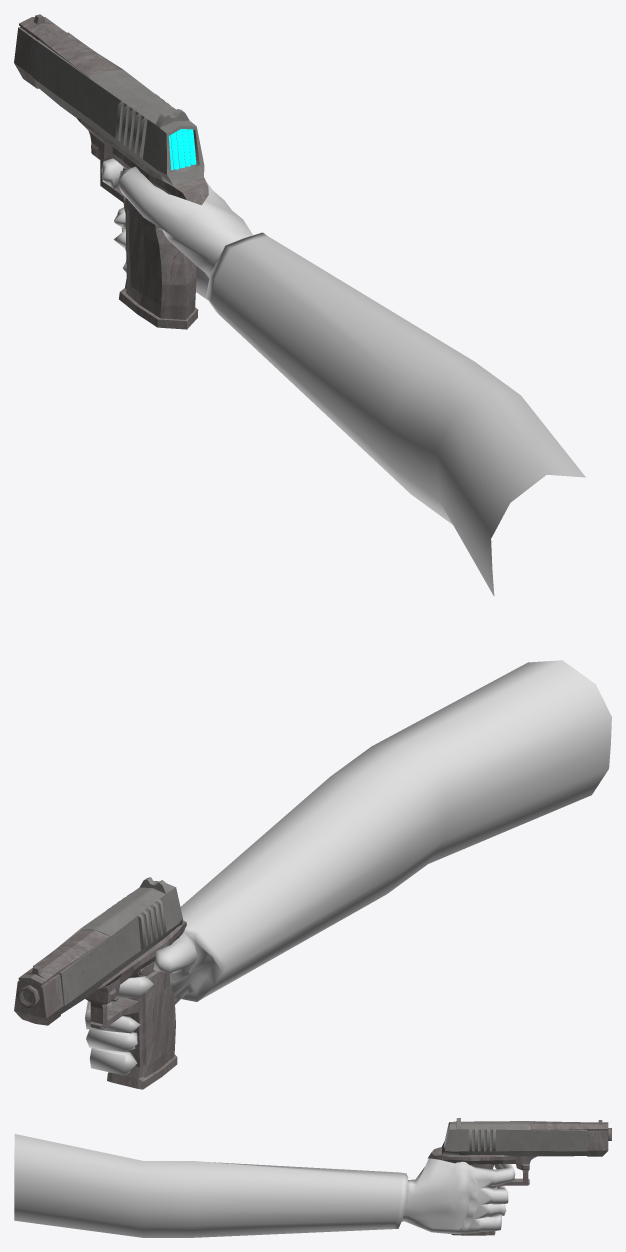
Rendered from hands.glb.
The picture shows the model from 3 angles, top to bottom: view 1: azimuth 30°, elevation 25°; view 2: azimuth 150°, elevation 25°; view 3: azimuth 270°, elevation 25°; orthographic projection. The views are drawn at different scales.
Visible parts, largest first — view 1: rece, pistolet, Pistolet.002; view 2: rece, pistolet, Pistolet.002; view 3: rece, Pistolet.002, pistolet.
Part boxes in pixels (x1=…): rece: x1=101, y1=158, x2=585, y2=596; pistolet: x1=14, y1=14, x2=208, y2=329; Pistolet.002: x1=33, y1=32, x2=204, y2=184; rece: x1=85, y1=660, x2=611, y2=1075; pistolet: x1=14, y1=920, x2=186, y2=1089; Pistolet.002: x1=33, y1=877, x2=182, y2=1013; rece: x1=14, y1=1134, x2=515, y2=1237; Pistolet.002: x1=442, y1=1118, x2=587, y2=1156; pistolet: x1=428, y1=1120, x2=611, y2=1235.
Bounding box in the file's own units: 2.55 × 2.94 × 14.29.
3 materials, 2 textured.
